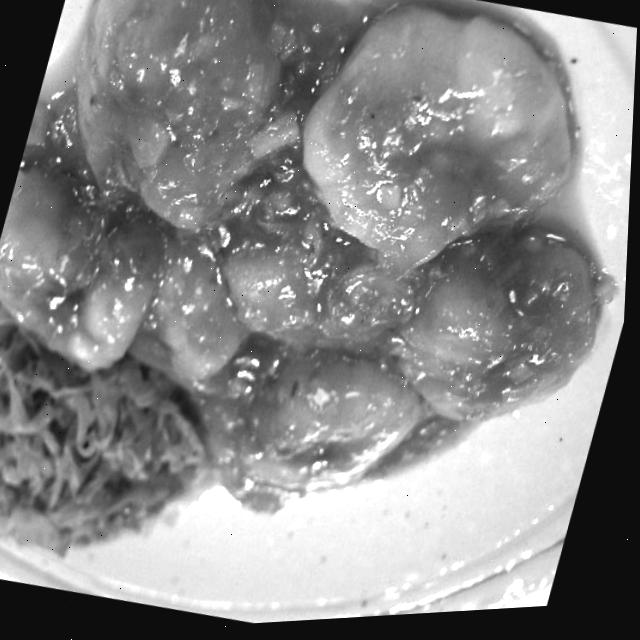熟制海鲜: (88, 0, 640, 635)
